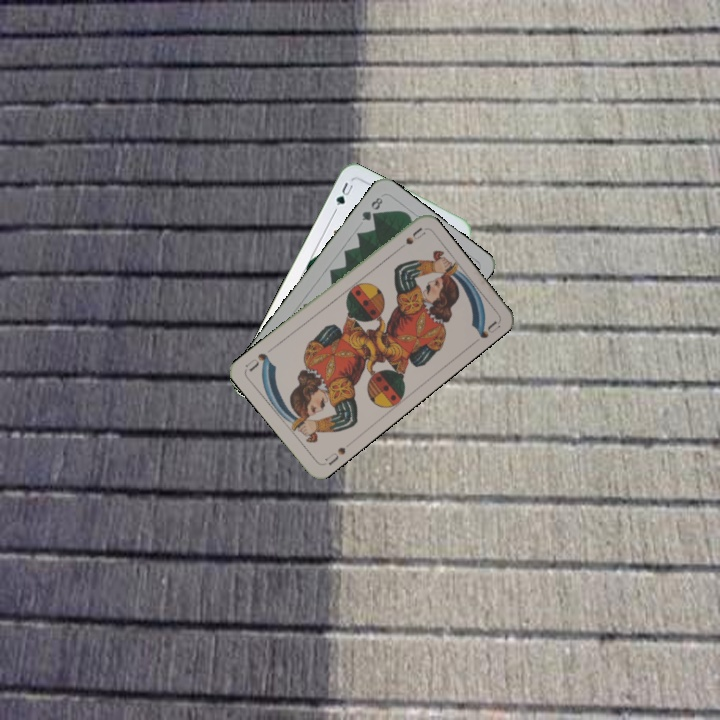G8: (357, 193, 385, 223)
GU: (332, 178, 356, 208)
SU: (391, 224, 427, 255), (321, 443, 348, 468)
